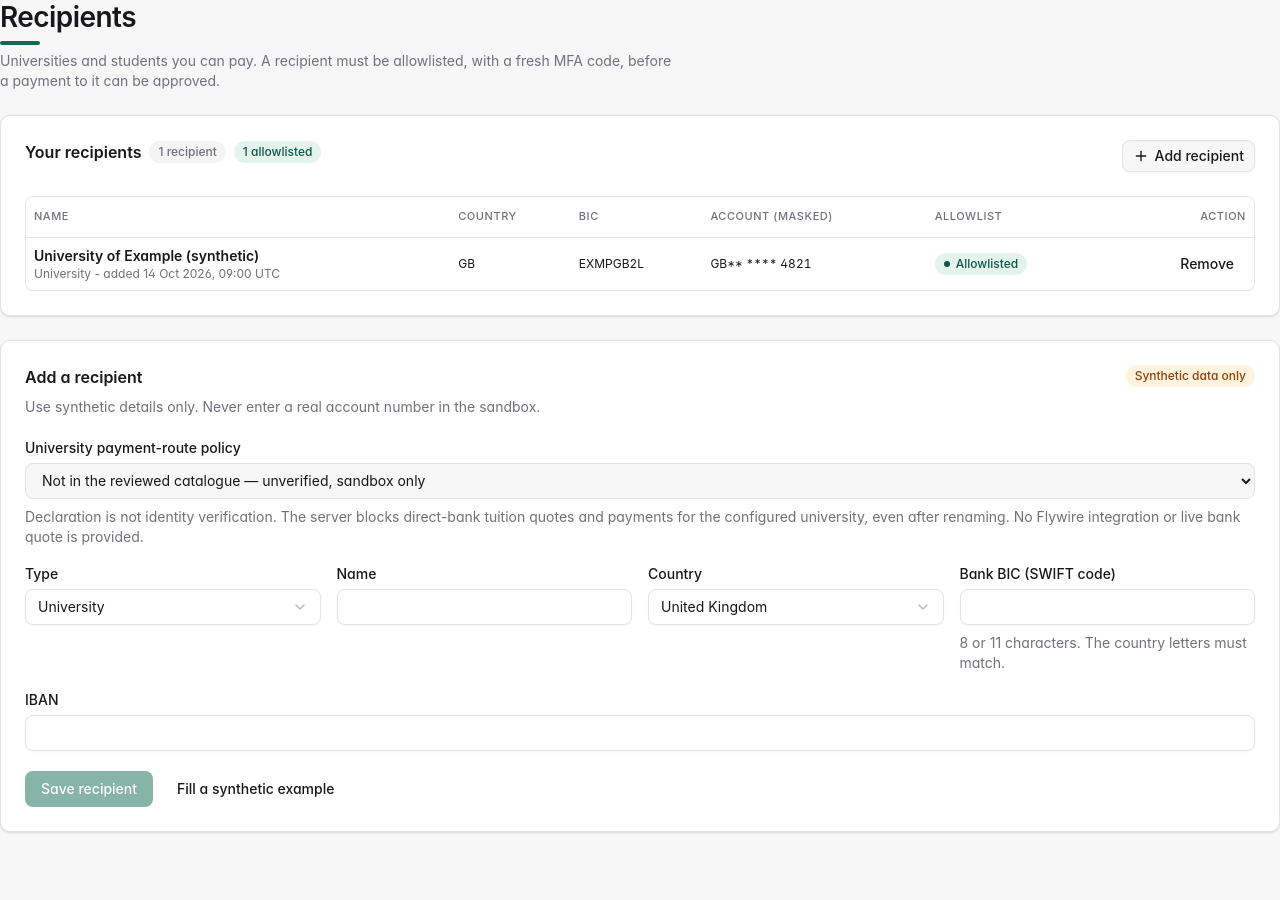
Test case: allowlist with MFA › lets the person keep the recipient allowlisted
The width and height of the screenshot is (1280, 900).
Click the button with aria-label "Remove University of Example" at (1207, 264), box [1168,248,1246,280]
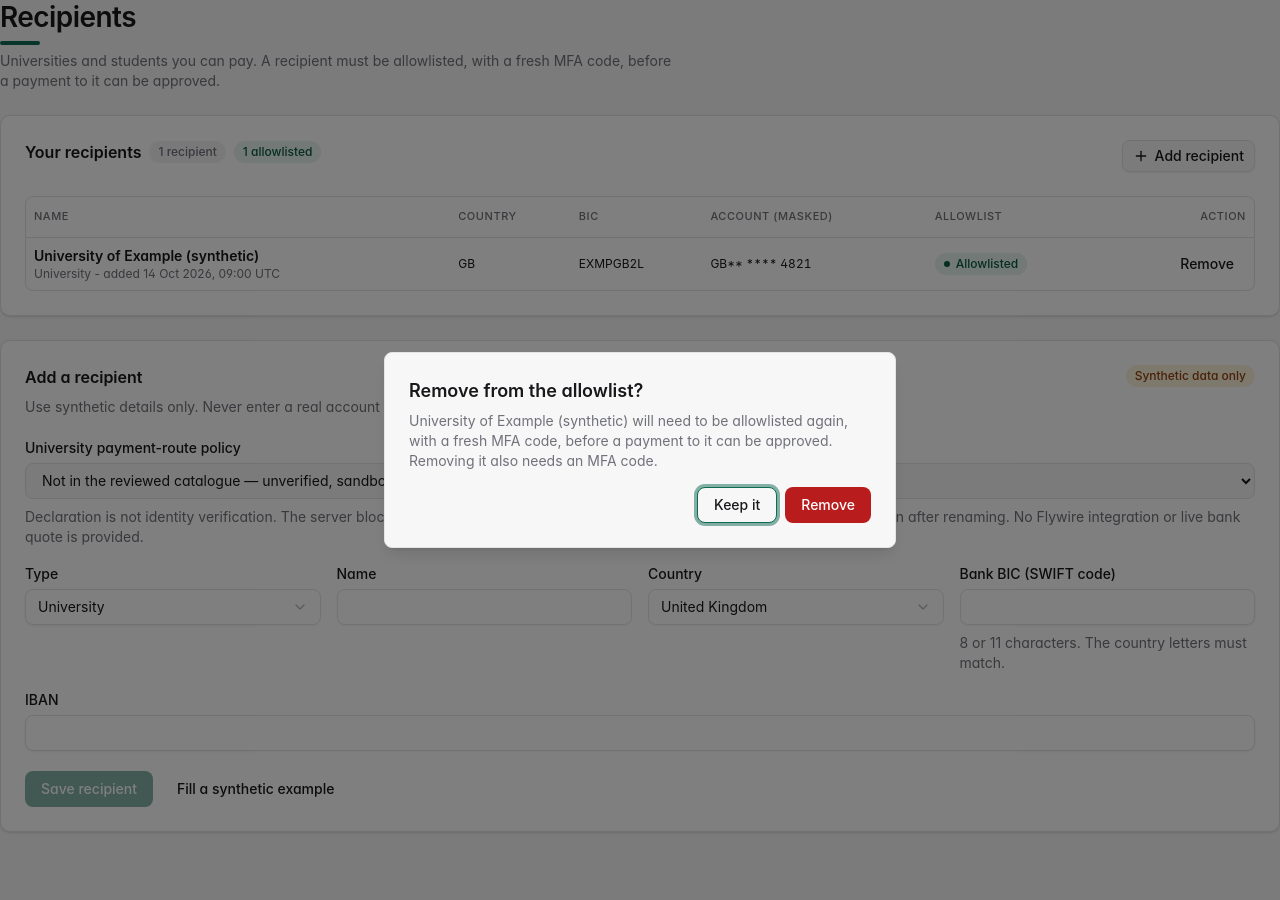
Click the button "Keep it" at (737, 505), box [697,487,777,523]
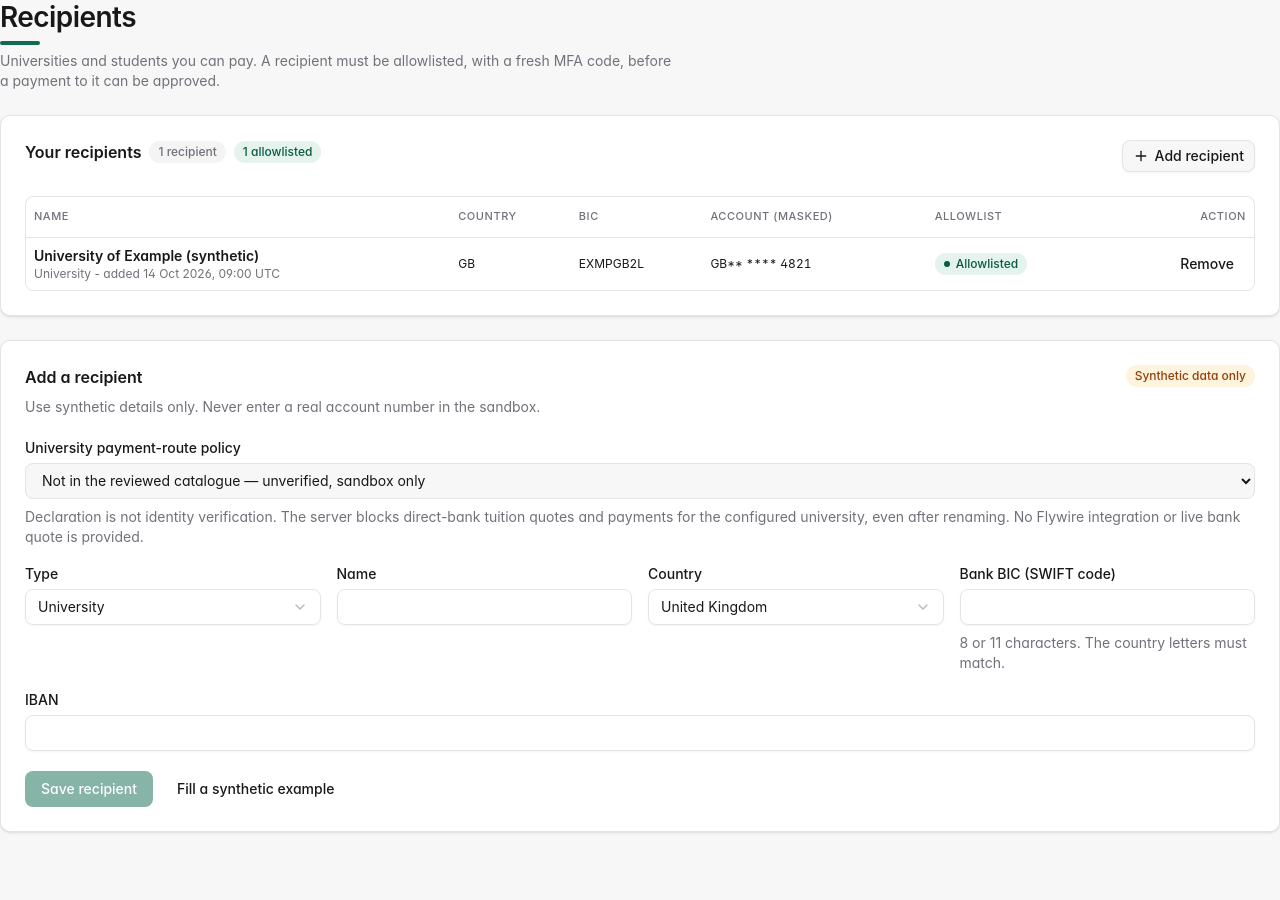
Check: the text "Allowlisted" is shown, box [935,253,1027,275]
Check: the dialog is gone
